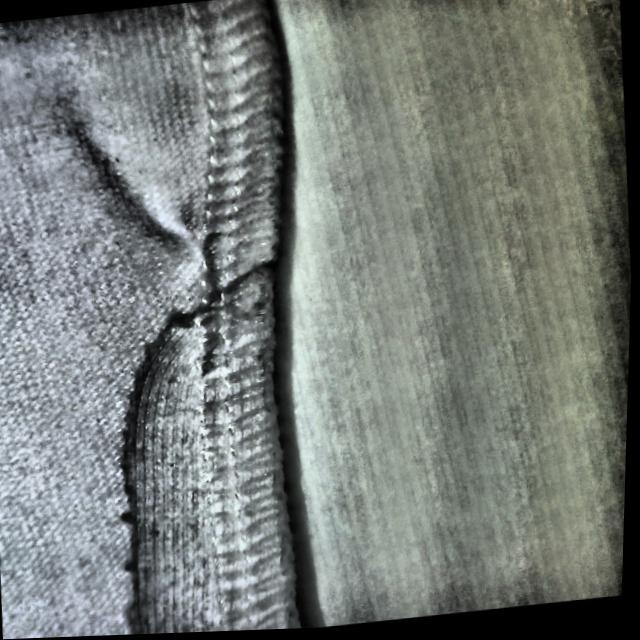seam: (38, 287, 319, 638)
